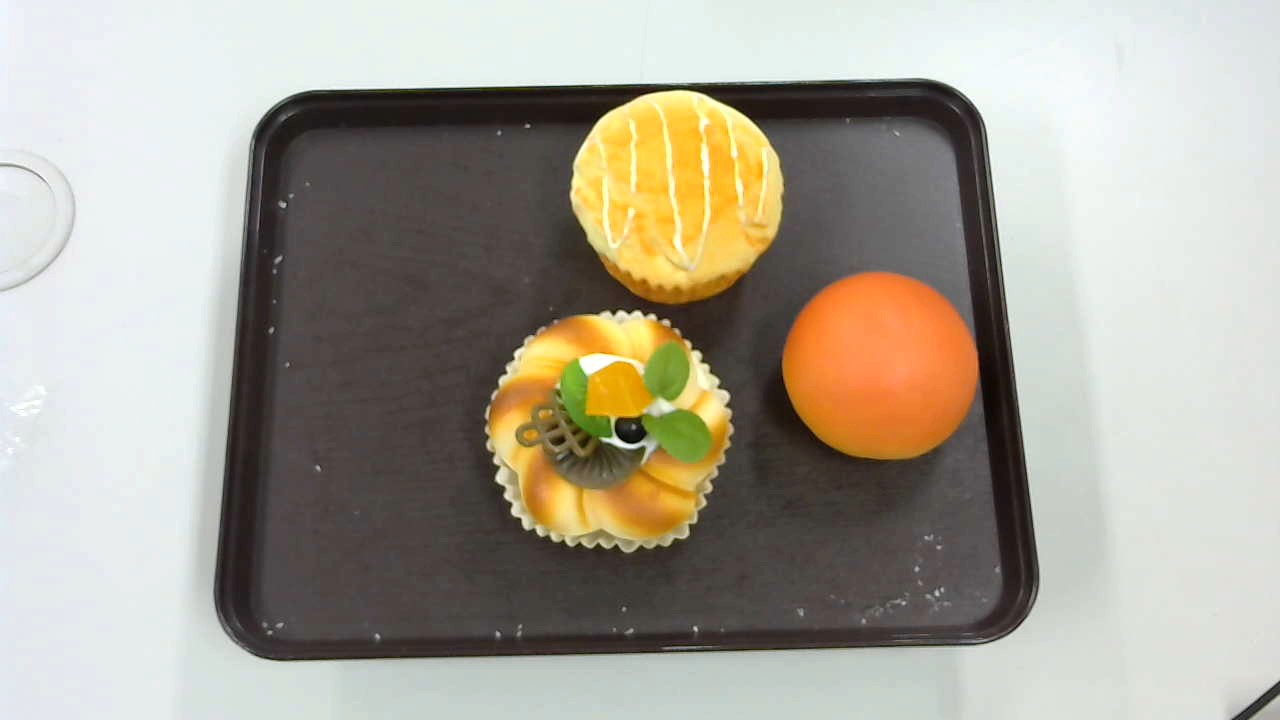bun: (782, 269, 980, 460)
cupcake: (570, 88, 784, 304)
fruit tart: (484, 310, 733, 555)
